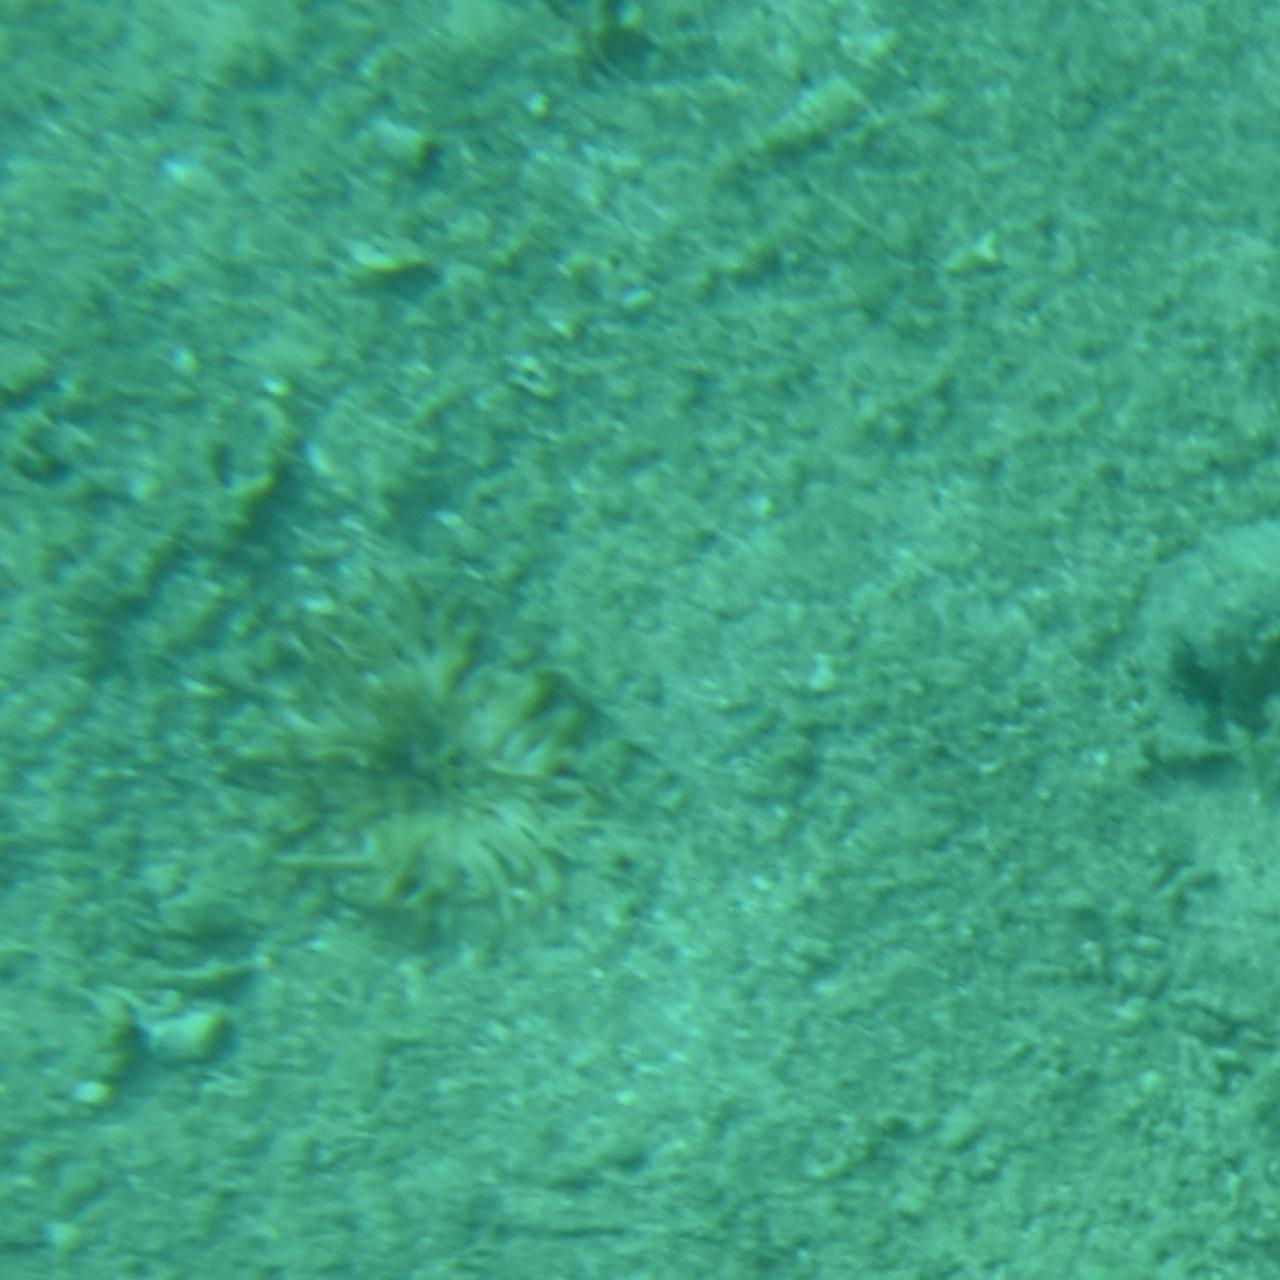Condylactis aurantiaca: (222, 584, 647, 917), (0, 392, 172, 668)
Holothuria tubulosa: (1032, 511, 1280, 805)
